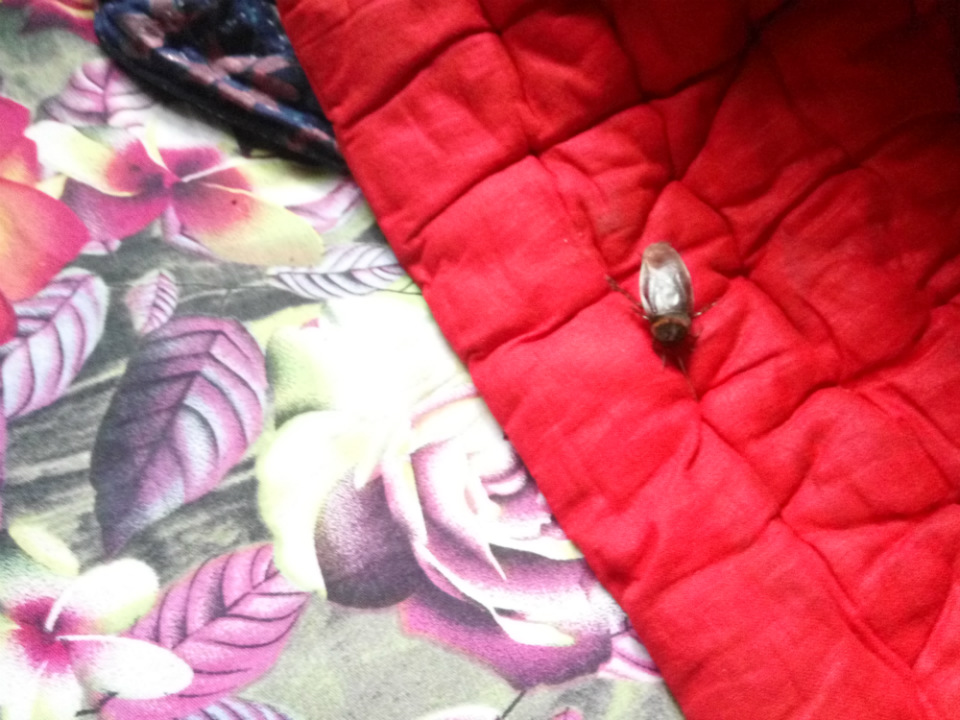cockroach: (557, 239, 783, 379)
